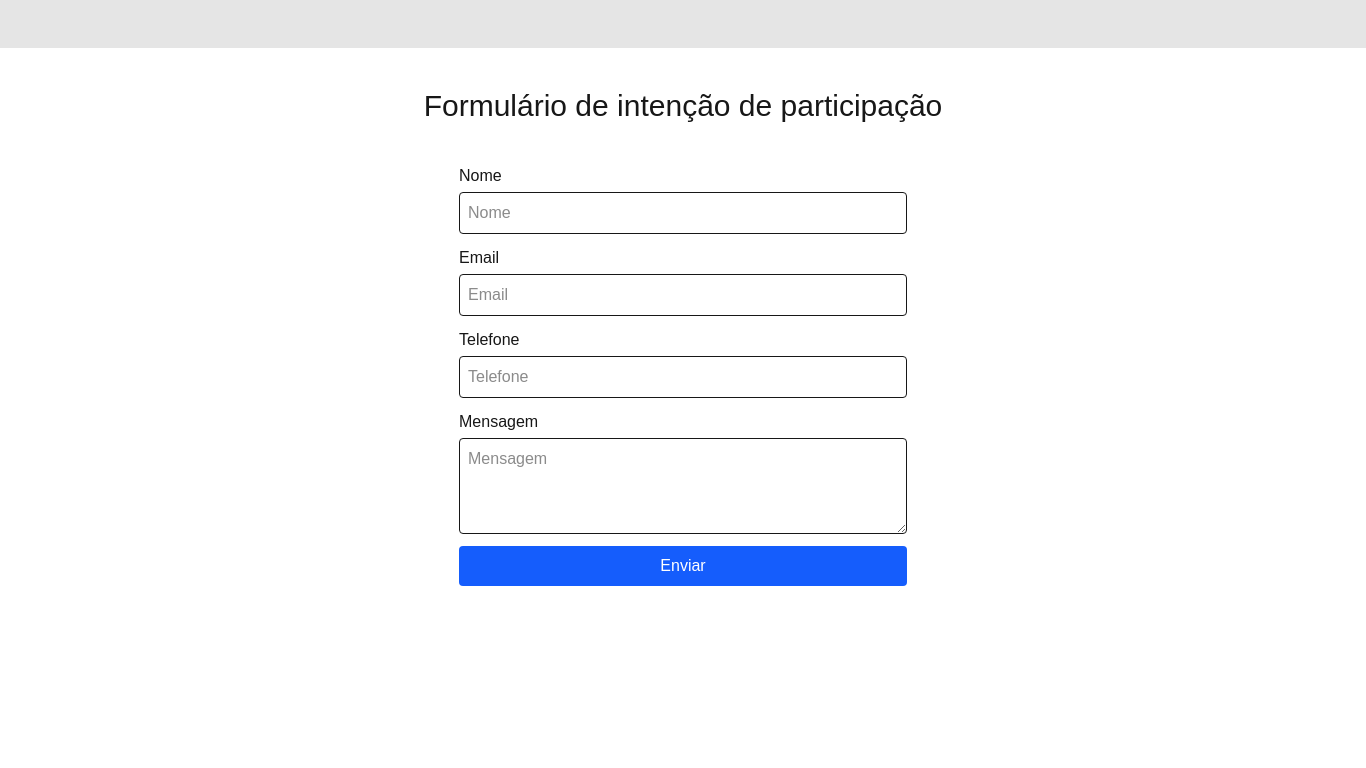
Scenario: Show validation error on send empty form fields
Click the button "Enviar" at (683, 566), box [459,546,907,586]
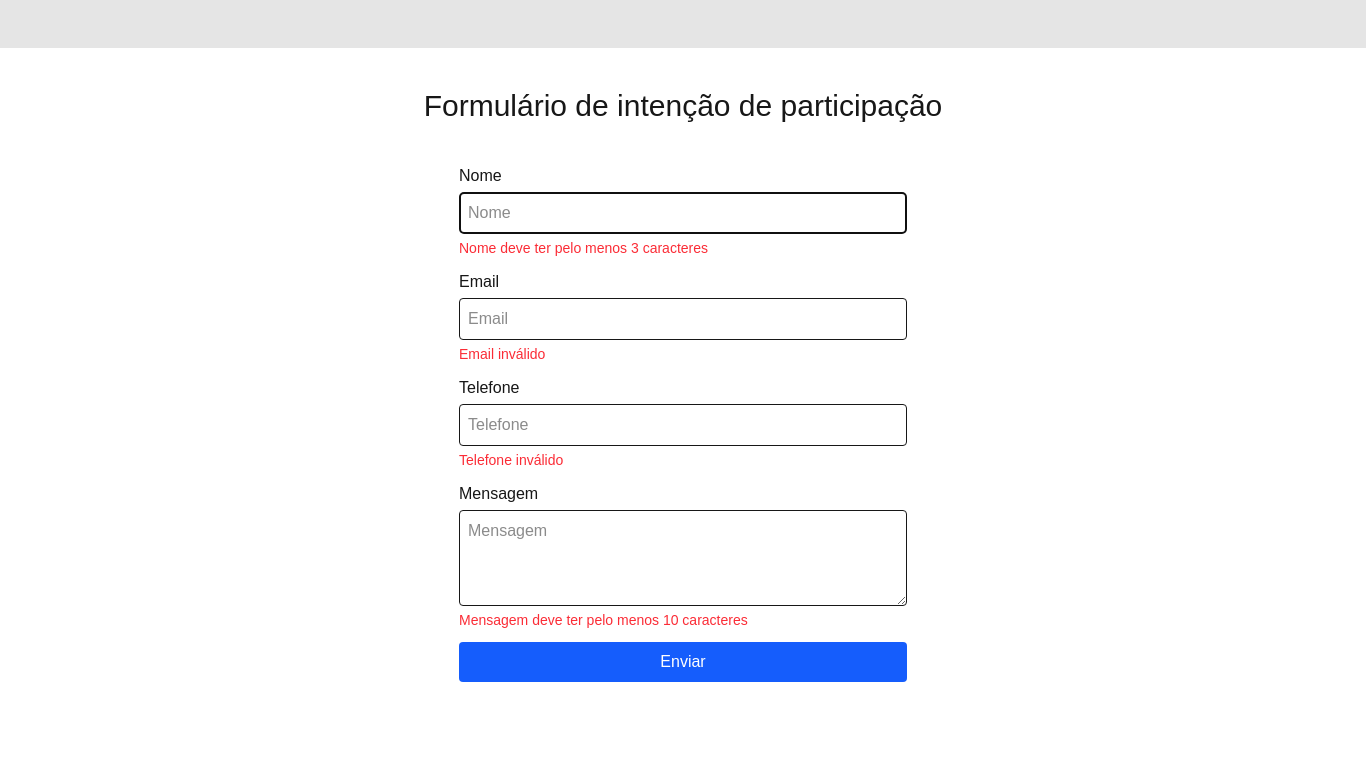
Check: the text "Nome deve ter pelo menos 3 caracteres" is shown, box [459,240,708,256]
Check: the text "Email inválido" is shown, box [459,346,545,362]
Check: the text "Telefone inválido" is shown, box [459,452,563,468]
